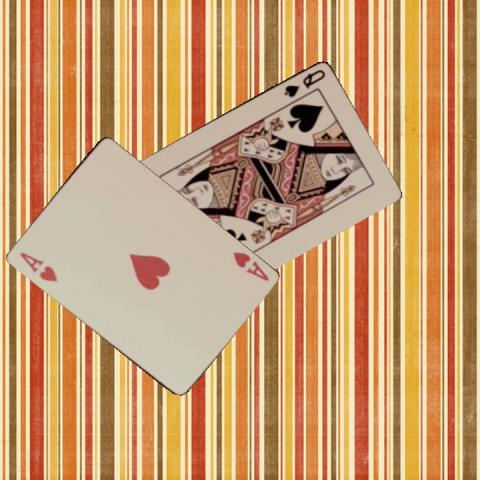Ah: (16, 249, 59, 283), (229, 248, 270, 282)
Qs: (282, 65, 328, 99)
